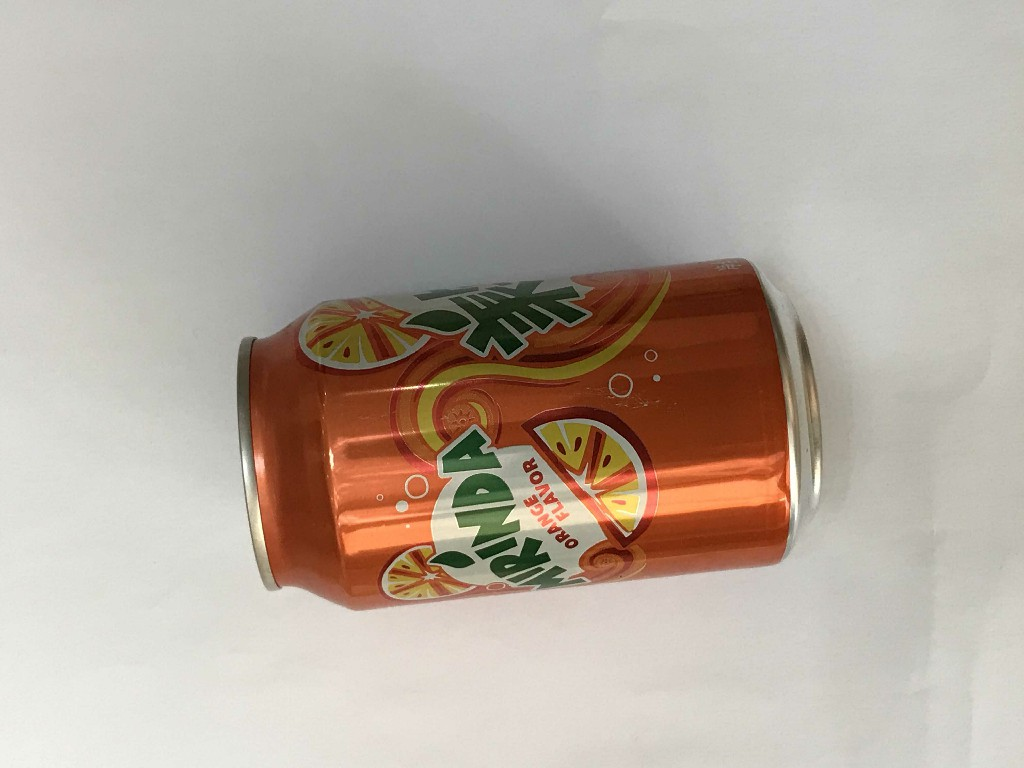can: (231, 253, 831, 615)
